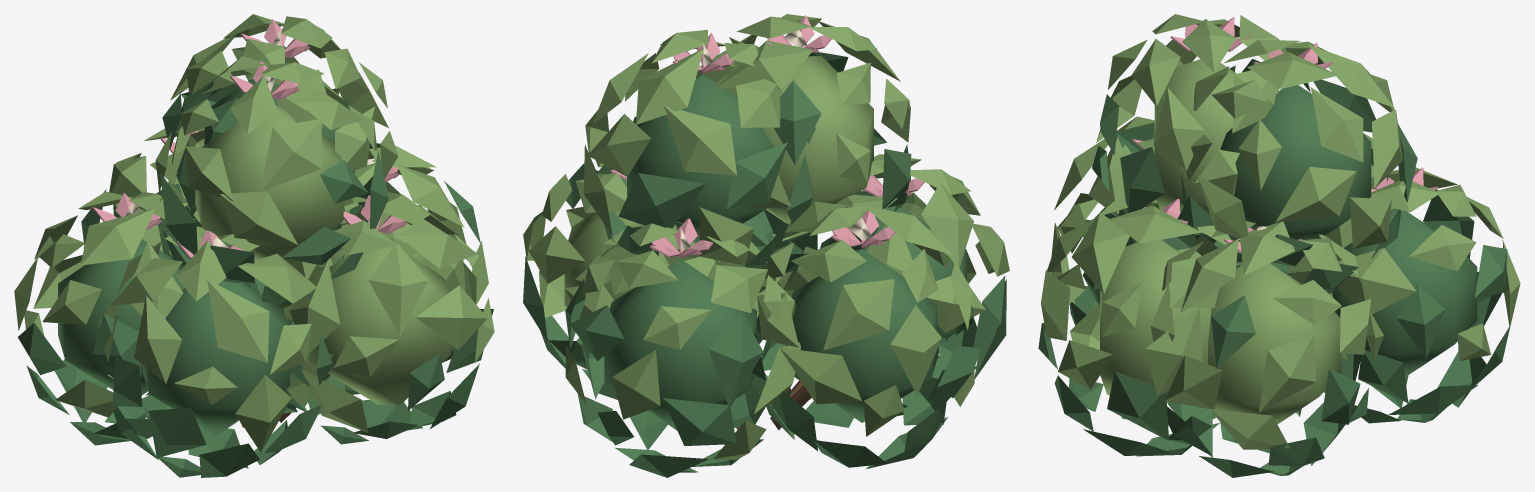
Rendered from shrub.flowering-far.glb.
The picture shows the model from 3 angles, left to right: view 1: azimuth 30°, elevation 25°; view 2: azimuth 150°, elevation 25°; view 3: azimuth 270°, elevation 25°; orthographic projection. The views are drawn at different scales.
Parts seen in each view (by area): view 1: Low woody shoot; view 2: Low woody shoot; view 3: Low woody shoot.
Boxes of the visible parts, x1=… form: Low woody shoot: x1=14, y1=14, x2=494, y2=477; Low woody shoot: x1=523, y1=14, x2=1009, y2=477; Low woody shoot: x1=1038, y1=14, x2=1520, y2=477.
Bounding box in the file's own units: 0.8213 × 0.6761 × 0.7656.
